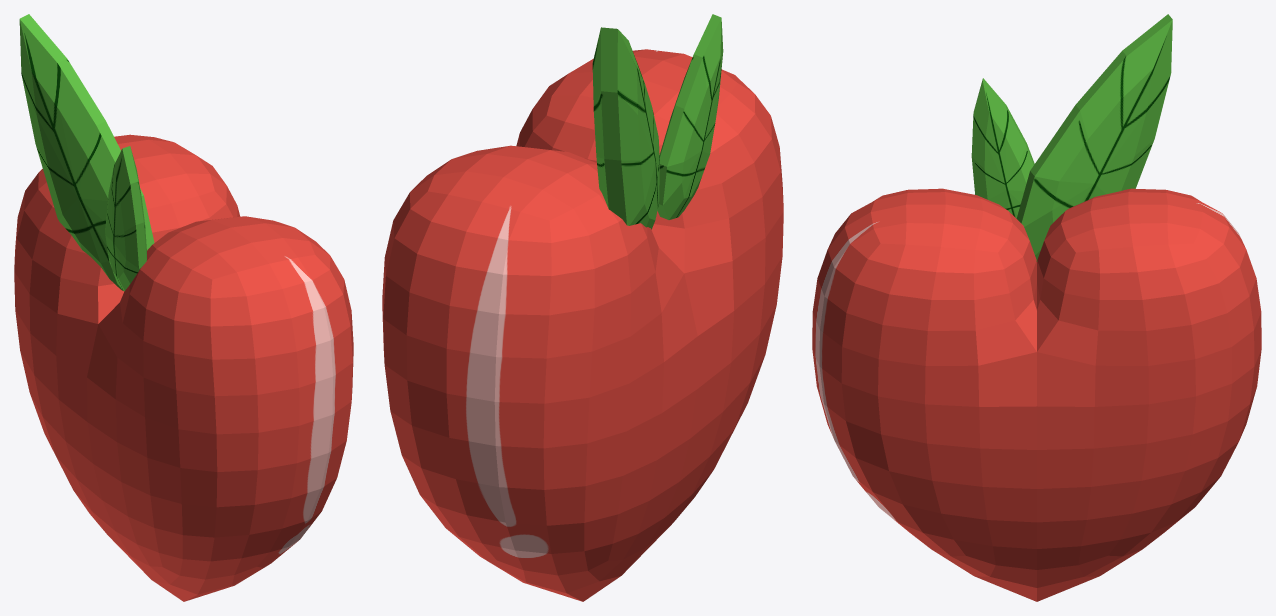
Rendered from vida.fbx.
3 renders of one model, left to right at view 1: azimuth 30°, elevation 25°; view 2: azimuth 150°, elevation 25°; view 3: azimuth 270°, elevation 25°, orthographic. The views are drawn at different scales.
Visible parts, largest first — view 1: Sphere; view 2: Sphere; view 3: Sphere.
Part boxes in pixels (bbox=[...]): Sphere: bbox=[14, 14, 353, 601]; Sphere: bbox=[382, 14, 783, 601]; Sphere: bbox=[812, 14, 1261, 601].
Bounding box in the file's own units: 102 × 276 × 208.
